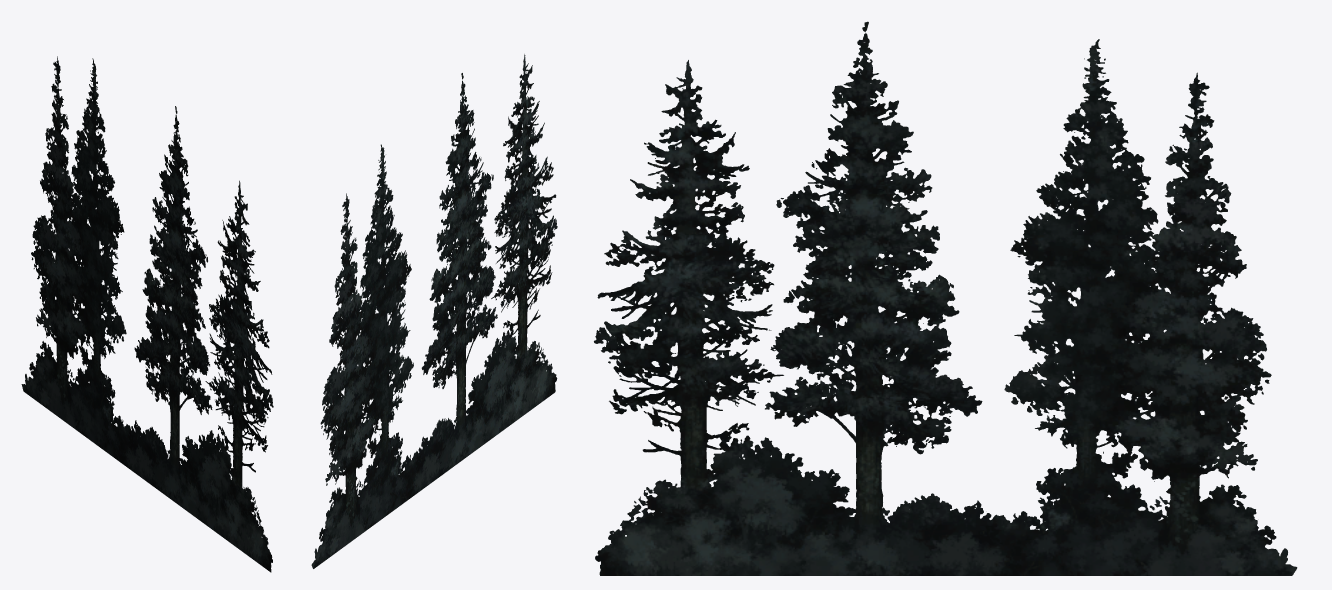
Rendered from Trees_Far3.fbx.
3 views of the same model, side by side, from view 1: azimuth 30°, elevation 25°; view 2: azimuth 150°, elevation 25°; view 3: azimuth 270°, elevation 25° (orthographic). The views are drawn at different scales.
Visible parts, largest first — view 1: SM_d_114_Middle_03a; view 2: SM_d_114_Middle_03a; view 3: SM_d_114_Middle_03a.
Boxes of the visible parts, x1=… form: SM_d_114_Middle_03a: x1=21, y1=56, x2=273, y2=572; SM_d_114_Middle_03a: x1=311, y1=54, x2=557, y2=568; SM_d_114_Middle_03a: x1=594, y1=21, x2=1297, y2=575.
Bounding box in the file's own units: 0 × 1700 × 2000.
